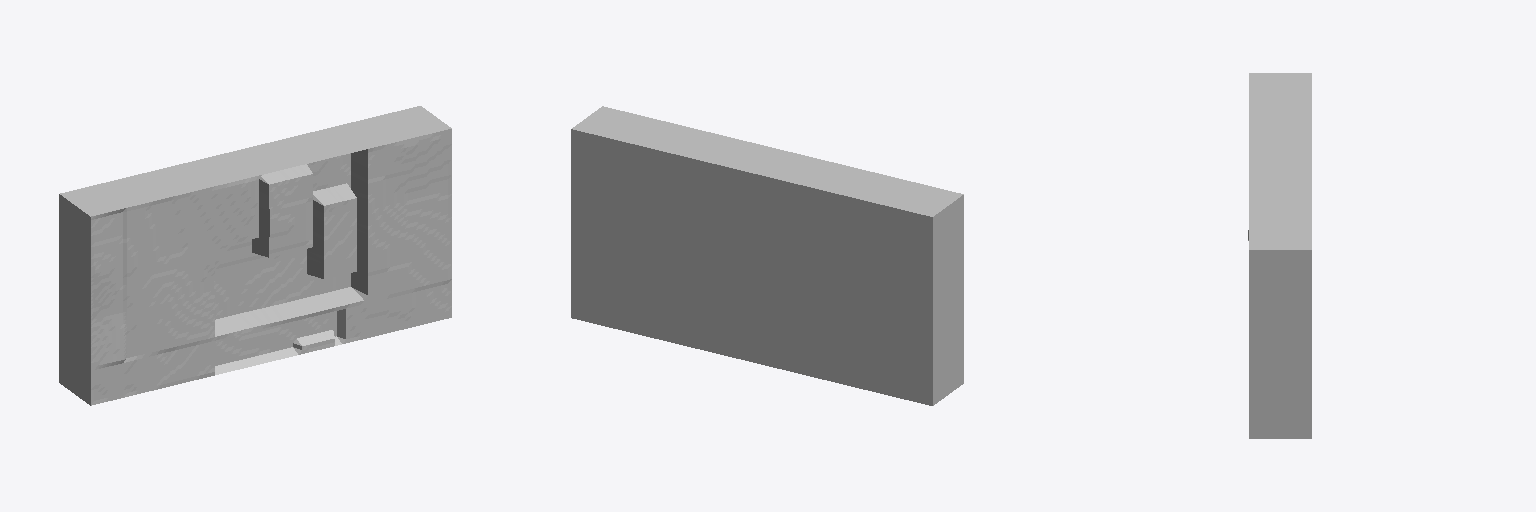
Rendered from rectangular_prism_bumps_3_9.obj.
3 views of the same model, side by side, from view 1: azimuth 30°, elevation 25°; view 2: azimuth 150°, elevation 25°; view 3: azimuth 270°, elevation 25° (orthographic).
Bounding box in the file's own units: 10 × 5 × 1.53.